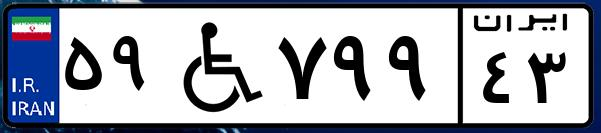3: (525, 38, 570, 115)
4: (475, 38, 525, 113)
5: (57, 26, 110, 100)
7: (270, 28, 330, 110)
9: (385, 28, 445, 110), (330, 28, 385, 110), (110, 28, 158, 98)
ژ (معلولین و جانبازان): (158, 12, 270, 120)
